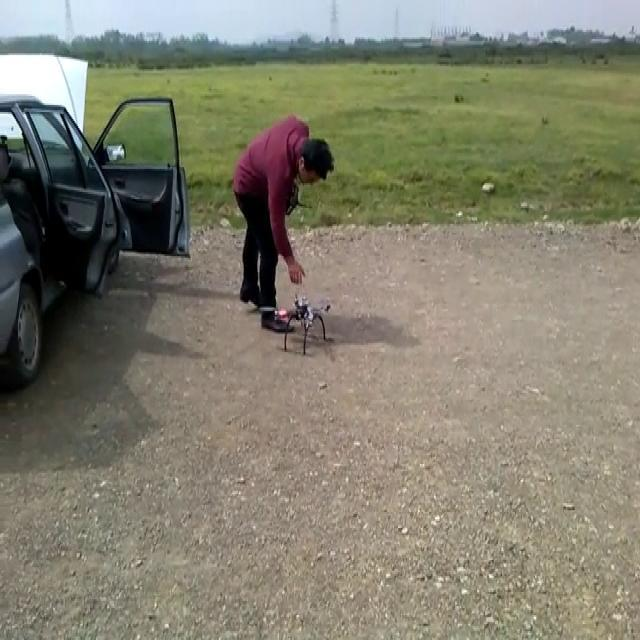drone: (259, 292, 334, 352)
